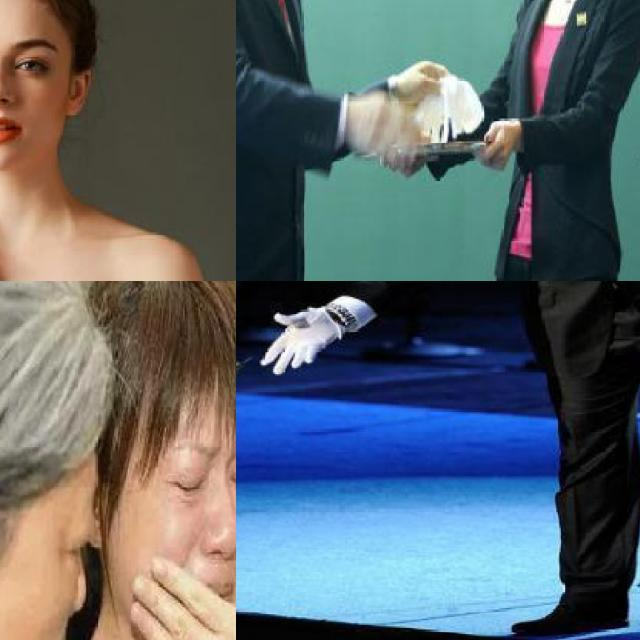No_Ear-Protection: (61, 58, 93, 122)
No_Glasses: (161, 440, 236, 503), (36, 511, 102, 575), (0, 38, 61, 89)
face_nomask: (0, 359, 101, 640), (136, 387, 236, 615), (0, 28, 63, 171)
hand_glove: (252, 303, 347, 377), (394, 57, 455, 105)
hand_noglove: (127, 529, 236, 640), (483, 117, 521, 174)
head_nohelmet: (0, 281, 115, 430), (109, 281, 236, 412)
person: (236, 281, 640, 640), (0, 0, 236, 281), (452, 0, 640, 281), (236, 0, 396, 281)
shoes: (504, 587, 635, 640)
